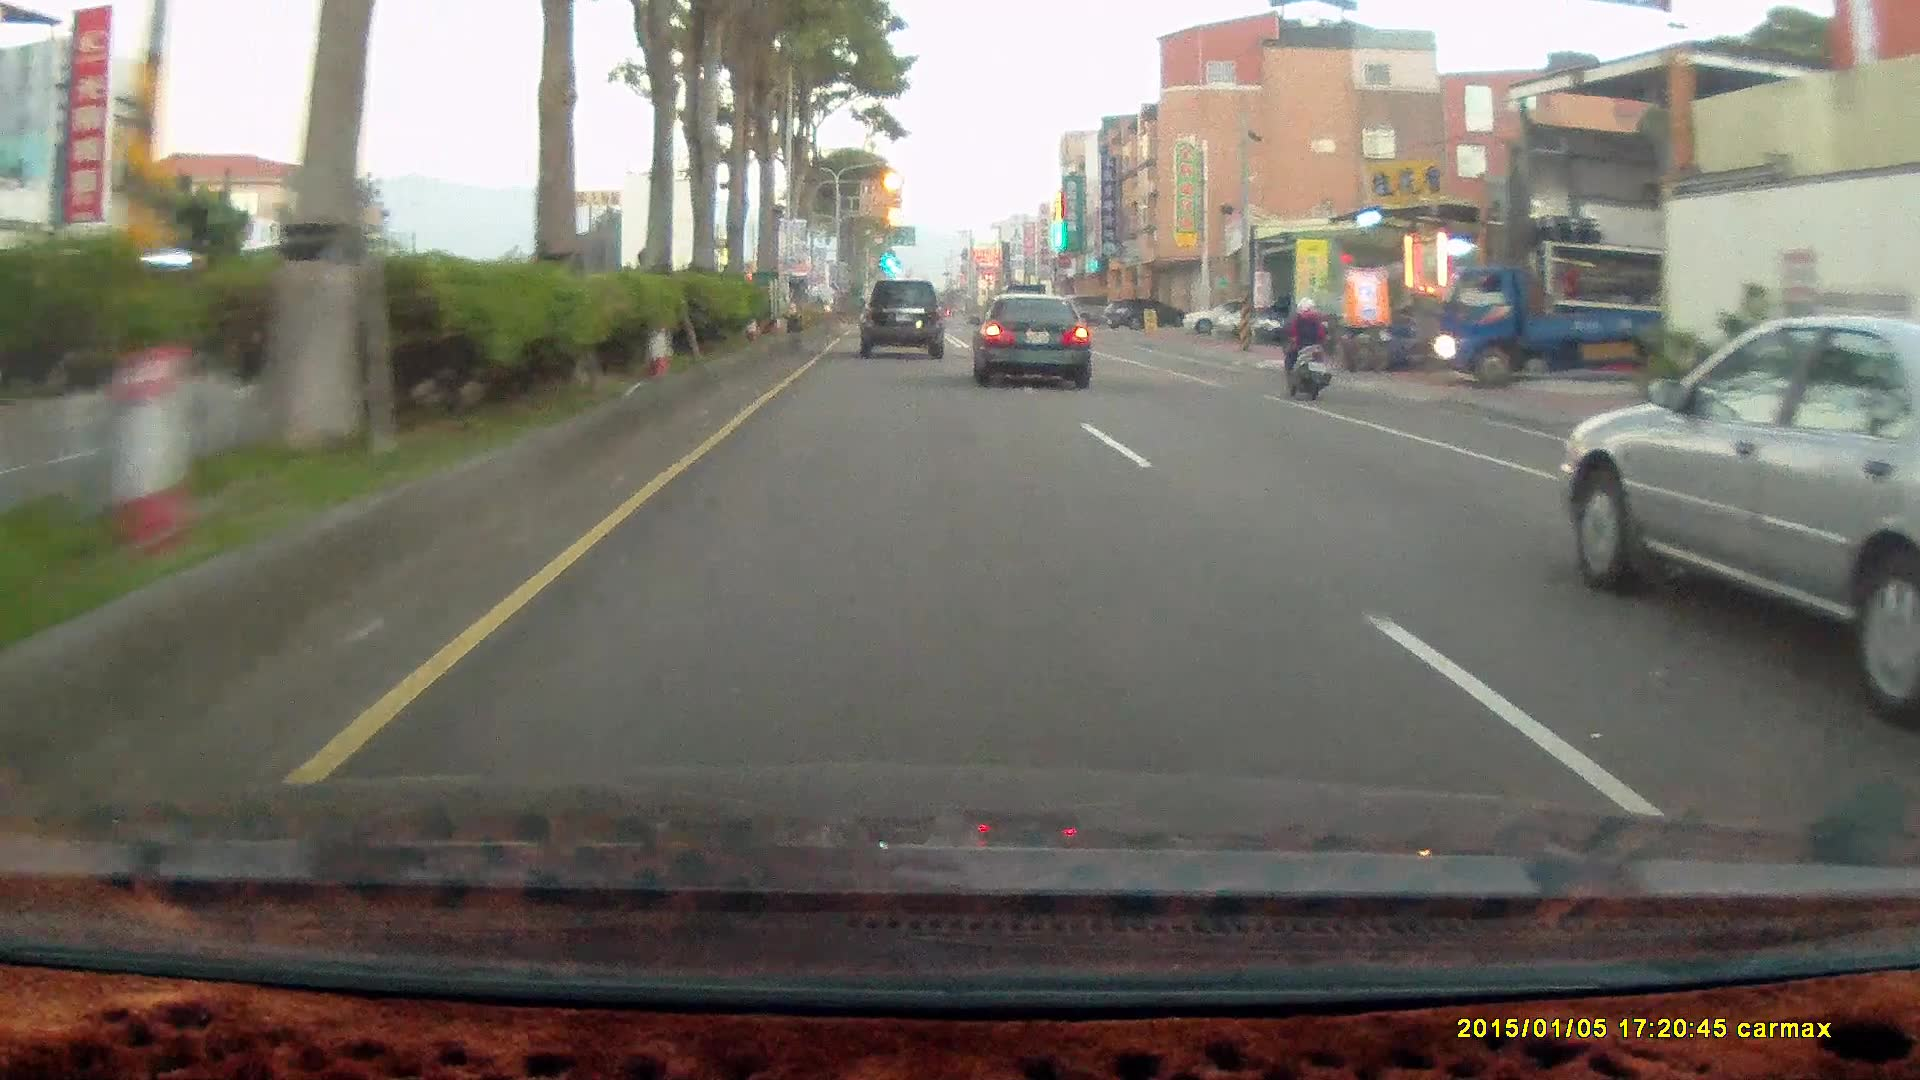rider: (1269, 286, 1345, 411), (1277, 298, 1335, 402)
vehicle: (1561, 311, 1920, 723), (1437, 242, 1669, 388), (1433, 269, 1716, 387), (965, 293, 1092, 390), (977, 296, 1098, 390), (861, 282, 951, 361), (857, 279, 945, 359), (1258, 295, 1353, 345), (1182, 300, 1271, 336), (1104, 297, 1181, 330), (1067, 292, 1128, 326)
